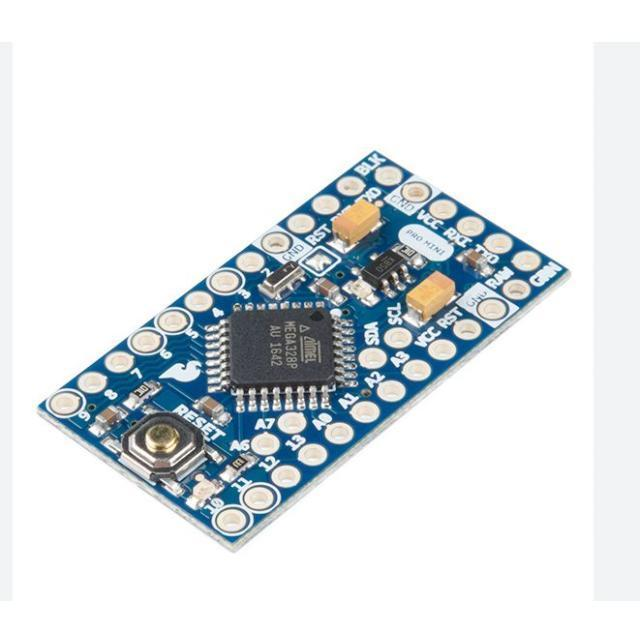Arduino-ProMini: (40, 152, 568, 547)
